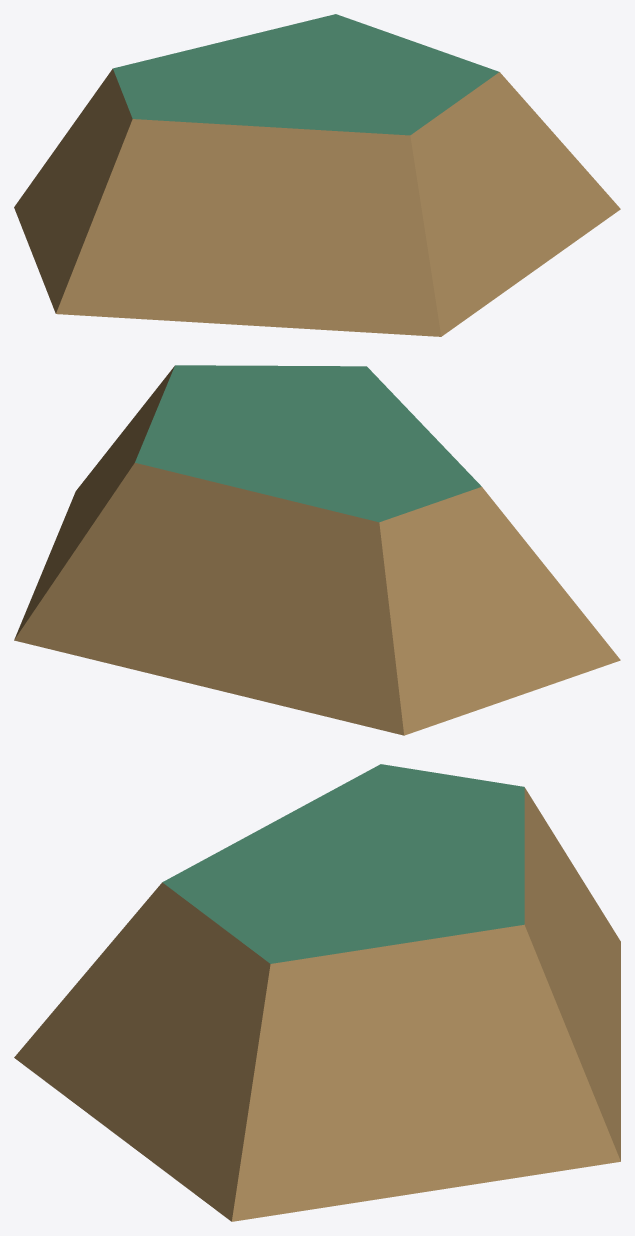
The model's file is Rock_Small_Mesa_Eroded_Moss_Grass_16.FBX.
3 renders of one model, top to bottom at view 1: azimuth 30°, elevation 25°; view 2: azimuth 150°, elevation 25°; view 3: azimuth 270°, elevation 25°, orthographic. The views are drawn at different scales.
Parts seen in each view (by area): view 1: Rock_Small_Mesa_Eroded_Moss_Grass_16; view 2: Rock_Small_Mesa_Eroded_Moss_Grass_16; view 3: Rock_Small_Mesa_Eroded_Moss_Grass_16.
Boxes of the visible parts, bbox=[...] form: Rock_Small_Mesa_Eroded_Moss_Grass_16: bbox=[14, 14, 620, 336]; Rock_Small_Mesa_Eroded_Moss_Grass_16: bbox=[14, 365, 620, 735]; Rock_Small_Mesa_Eroded_Moss_Grass_16: bbox=[14, 764, 620, 1221].
Size of the model in its own units: 1903 by 520 by 1487.
